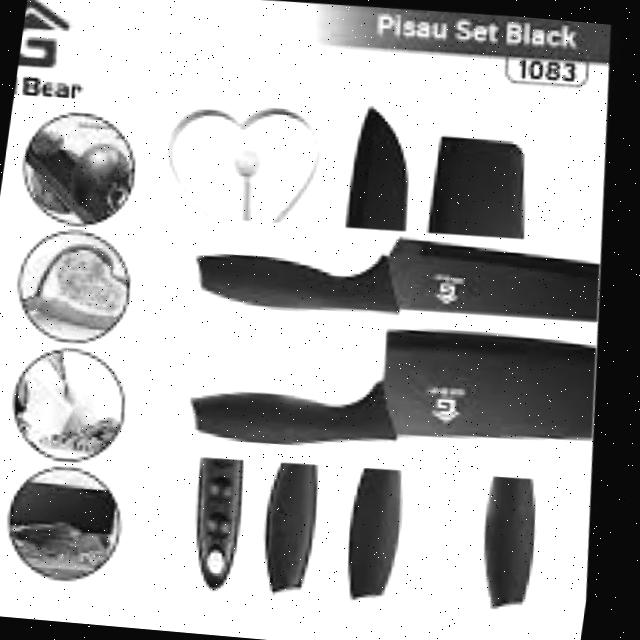knife: (186, 308, 624, 476), (193, 222, 609, 336)
